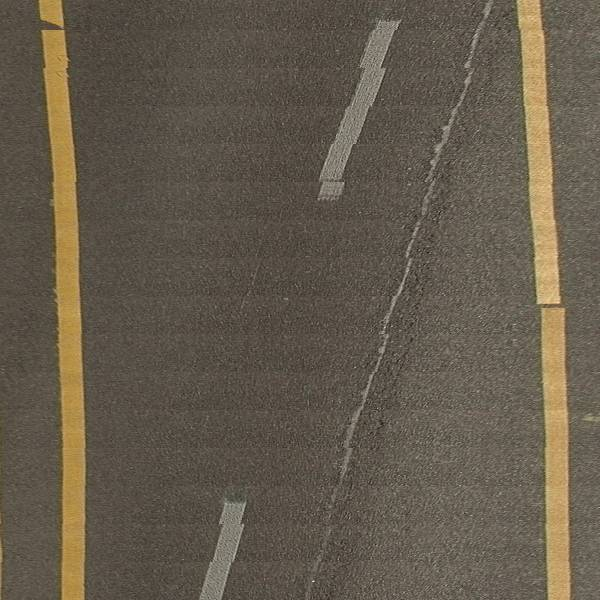road_damage: (310, 39, 482, 587)
